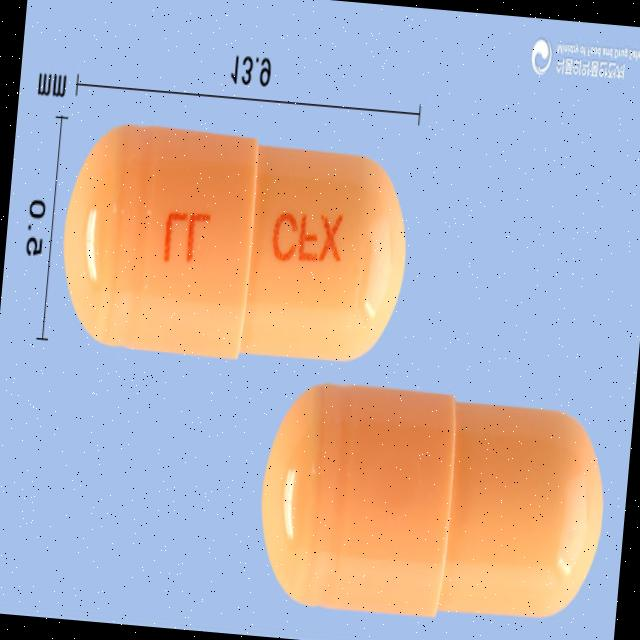Cefaxamin Cap: (49, 116, 420, 380)
